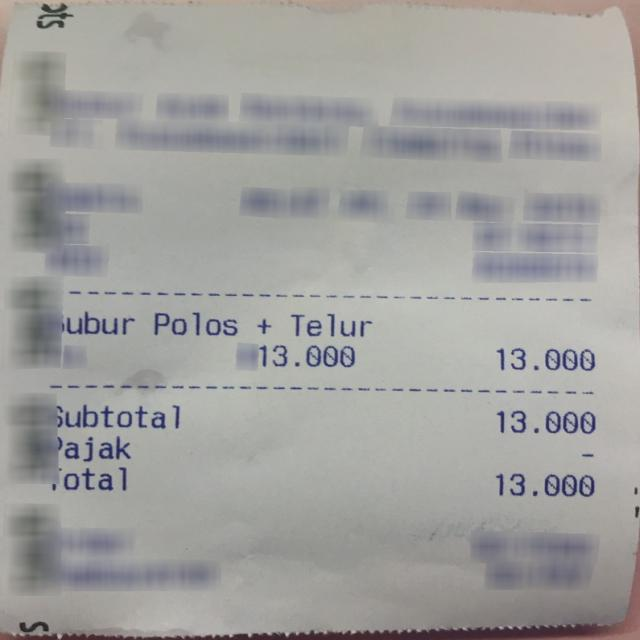text: (42, 403, 178, 429), (495, 410, 596, 434), (495, 347, 596, 370), (258, 344, 354, 367), (494, 474, 594, 496), (48, 464, 126, 492), (49, 435, 129, 461), (50, 310, 134, 334), (290, 312, 370, 335), (153, 312, 236, 334), (13, 620, 48, 634), (258, 319, 270, 332)
